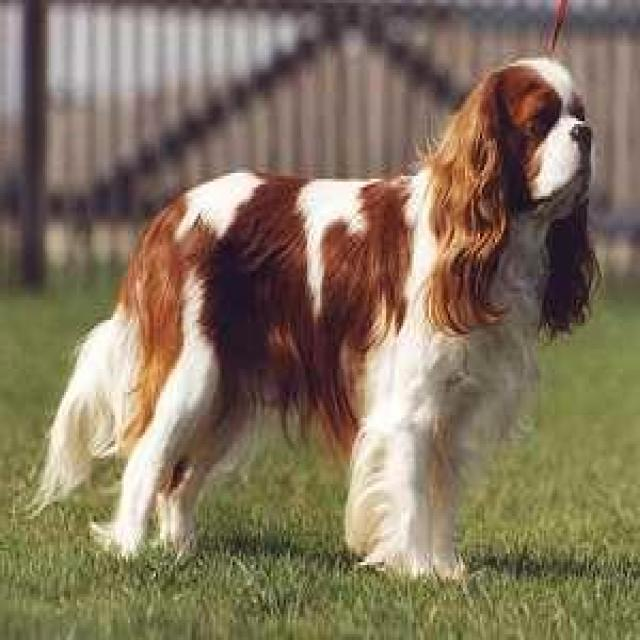blenheim_spaniel: (26, 52, 606, 576)
